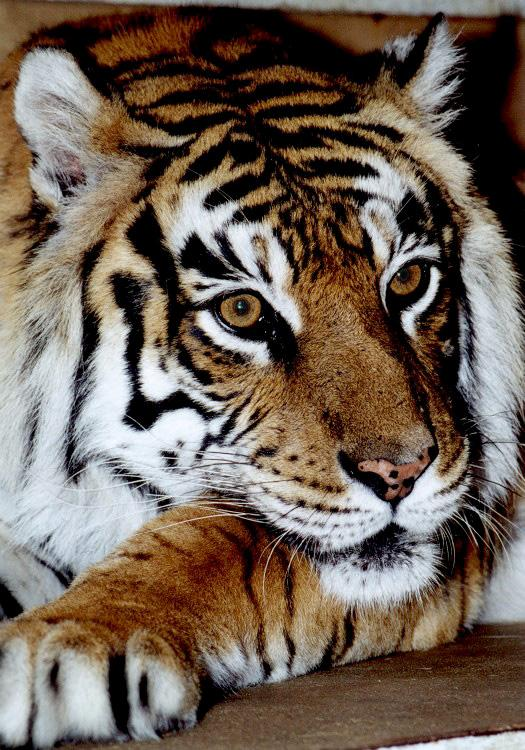Tigre: (15, 15, 510, 648)
